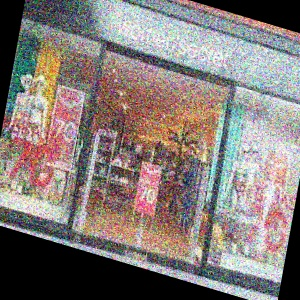women_secret: (186, 18, 283, 79)
